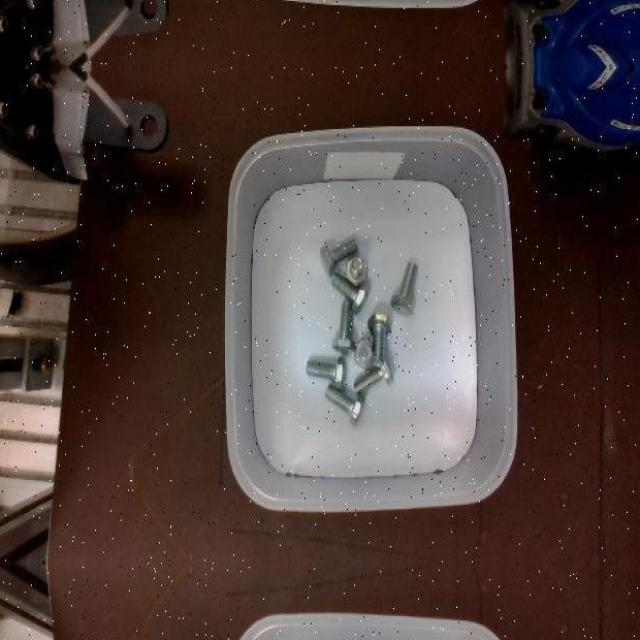screw: (324, 384, 366, 425), (330, 272, 368, 314), (390, 261, 419, 315), (319, 238, 358, 277), (331, 300, 356, 354), (305, 355, 347, 387), (368, 313, 391, 366), (346, 256, 367, 286)
